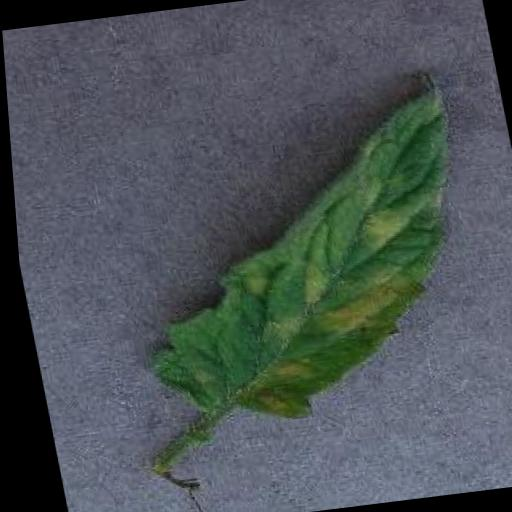Leaf Mold: (96, 70, 501, 442)
